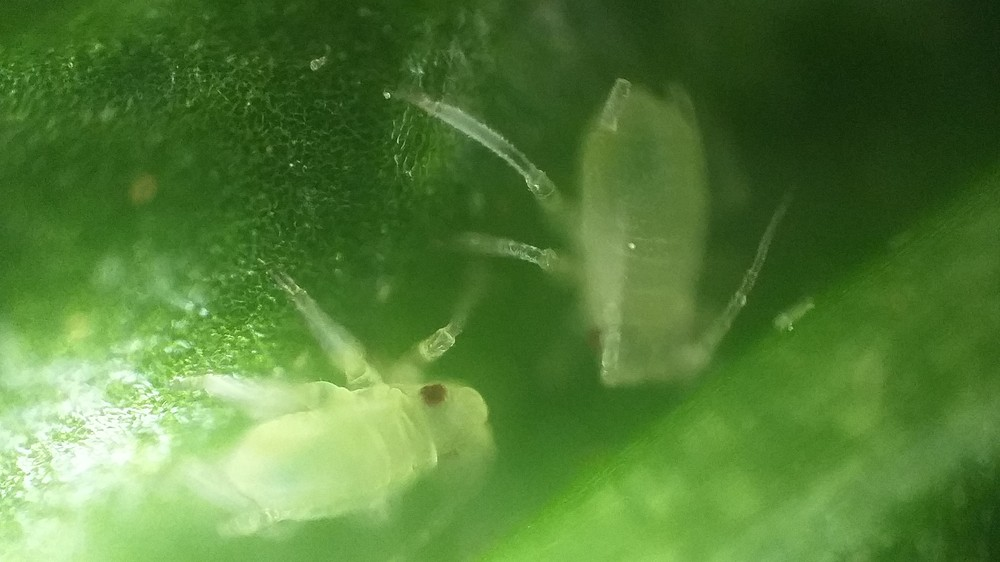Pulgon: (437, 51, 820, 415), (128, 280, 528, 557)
